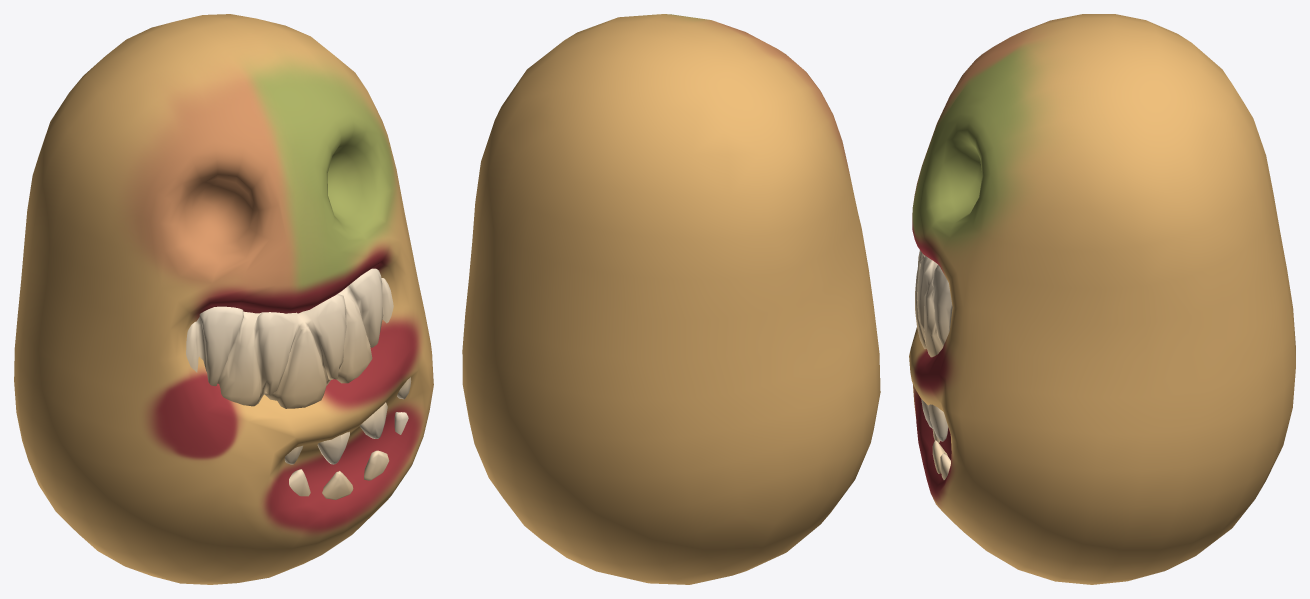
Rendered from potato_body_mouth1.fbx.
The picture shows the model from 3 angles, left to right: view 1: azimuth 30°, elevation 25°; view 2: azimuth 150°, elevation 25°; view 3: azimuth 270°, elevation 25°; orthographic projection.
Parts seen in each view (by area): view 1: body1_2_body_with_mouths_5; view 2: body1_2_body_with_mouths_5; view 3: body1_2_body_with_mouths_5.
Boxes of the visible parts, bbox=[...] form: body1_2_body_with_mouths_5: bbox=[14, 14, 433, 584]; body1_2_body_with_mouths_5: bbox=[462, 14, 880, 584]; body1_2_body_with_mouths_5: bbox=[909, 14, 1295, 584].
Bounding box in the file's own units: 2.04 × 2.86 × 1.89.
